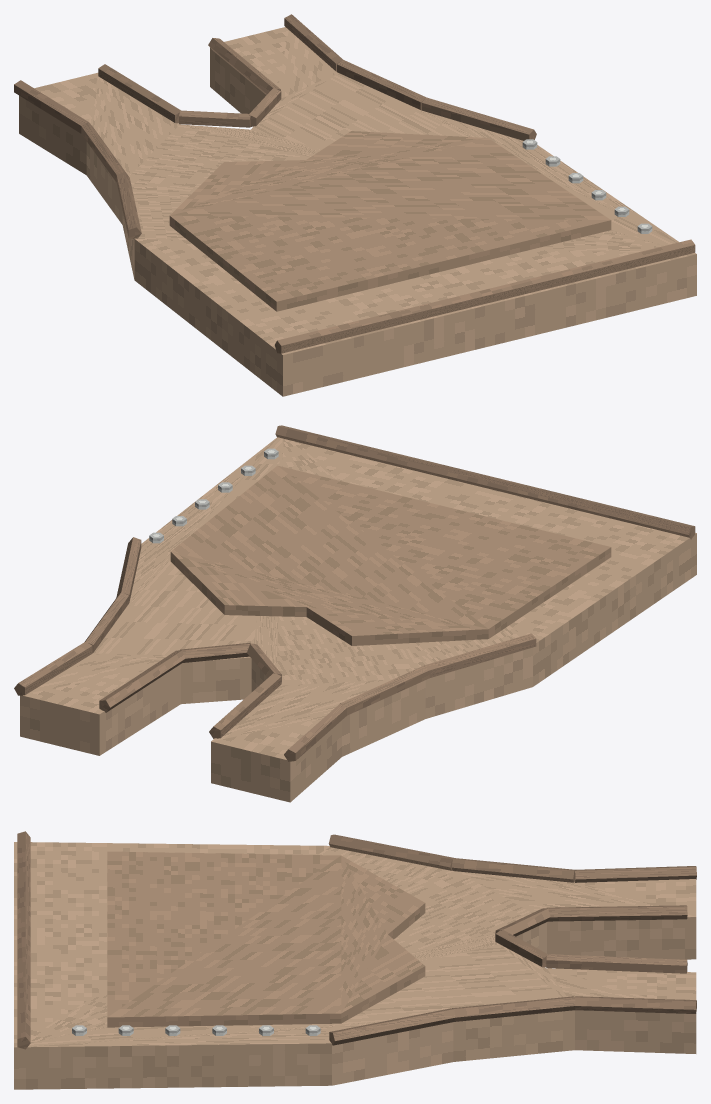
File: binder_top.glb
The picture shows the model from 3 angles, top to bottom: view 1: azimuth 30°, elevation 25°; view 2: azimuth 150°, elevation 25°; view 3: azimuth 270°, elevation 25°; orthographic projection.
Visible parts, largest first — view 1: block_compression tank top, block_double-layer front panel, block_hem binding 0, block_armhole binding 2 (×2), block_armhole binding 1 (×2), block_armhole binding 0 (×2), block_neckline binding 0, block_neckline binding 3, block_neckline binding 1; view 2: block_compression tank top, block_double-layer front panel, block_hem binding 0, block_armhole binding 2 (×2), block_armhole binding 0 (×2), block_armhole binding 1 (×2), block_neckline binding 3, block_neckline binding 0, block_neckline binding 2; view 3: block_compression tank top, block_double-layer front panel, block_armhole binding 2 (×2), block_armhole binding 1 (×2), block_armhole binding 0 (×2), block_hem binding 0, block_neckline binding 3, block_neckline binding 0, block_neckline binding 2, block_neckline binding 1.
Part boxes in pixels (bbox=[...]): block_compression tank top: bbox=[19, 27, 696, 396]; block_double-layer front panel: bbox=[169, 131, 611, 311]; block_hem binding 0: bbox=[274, 239, 695, 353]; block_armhole binding 2 (×2): bbox=[116, 97, 536, 239]; block_armhole binding 1 (×2): bbox=[81, 60, 425, 182]; block_armhole binding 0 (×2): bbox=[14, 14, 342, 133]; block_neckline binding 0: bbox=[98, 64, 181, 123]; block_neckline binding 3: bbox=[208, 38, 280, 94]; block_neckline binding 1: bbox=[179, 110, 250, 127]; block_compression tank top: bbox=[20, 437, 696, 802]; block_double-layer front panel: bbox=[170, 465, 611, 645]; block_hem binding 0: bbox=[275, 425, 695, 539]; block_armhole binding 2 (×2): bbox=[116, 537, 536, 677]; block_armhole binding 0 (×2): bbox=[14, 641, 346, 761]; block_armhole binding 1 (×2): bbox=[85, 592, 429, 715]; block_neckline binding 3: bbox=[99, 650, 184, 712]; block_neckline binding 0: bbox=[209, 672, 281, 738]; block_neckline binding 2: bbox=[180, 642, 251, 662]; block_compression tank top: bbox=[14, 842, 696, 1089]; block_double-layer front panel: bbox=[107, 851, 425, 1027]; block_armhole binding 2 (×2): bbox=[328, 834, 455, 1045]; block_armhole binding 1 (×2): bbox=[451, 858, 575, 1021]; block_armhole binding 0 (×2): bbox=[575, 866, 696, 1013]; block_hem binding 0: bbox=[17, 831, 30, 1049]; block_neckline binding 3: bbox=[546, 954, 687, 973]; block_neckline binding 0: bbox=[547, 905, 687, 921]; block_neckline binding 2: bbox=[495, 929, 548, 967]; block_neckline binding 1: bbox=[495, 908, 550, 936].
Size of the model in its own units: 0.2103 by 0.0273 by 0.2955.
2 materials, 2 textured.
